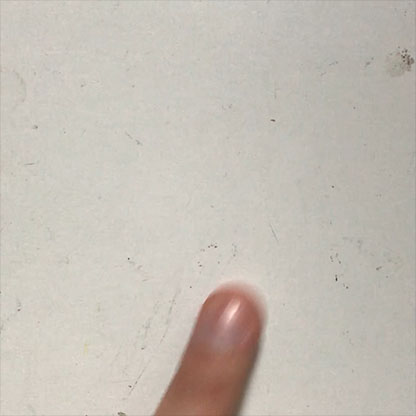fingertip: (181, 273, 272, 360)
